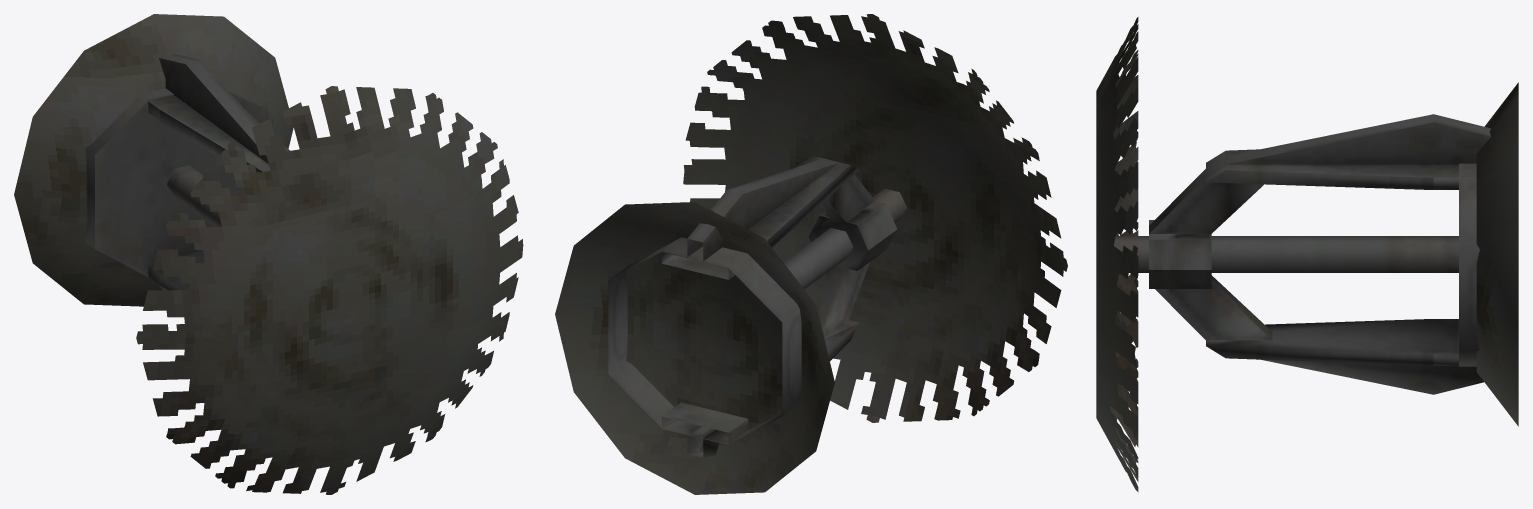
File: nt_2020_sprinkler_01_ceiling_LOD0.obj
3 renders of one model, left to right at view 1: azimuth 30°, elevation 25°; view 2: azimuth 150°, elevation 25°; view 3: azimuth 270°, elevation 25°, orthographic. The views are drawn at different scales.
Parts seen in each view (by area): view 1: mtl_p6_pipes_garage_sprinkler_top, mtl_p6_pipes_garage_details; view 2: mtl_p6_pipes_garage_sprinkler_top, mtl_p6_pipes_garage_details; view 3: mtl_p6_pipes_garage_details, mtl_p6_pipes_garage_sprinkler_top.
Boxes of the visible parts, x1,y1,x2,y2 form: mtl_p6_pipes_garage_sprinkler_top: (14,14,523,494); mtl_p6_pipes_garage_details: (85,54,289,290); mtl_p6_pipes_garage_sprinkler_top: (555,14,1067,494); mtl_p6_pipes_garage_details: (608,156,907,457); mtl_p6_pipes_garage_details: (1114,114,1490,394); mtl_p6_pipes_garage_sprinkler_top: (1096,17,1518,492).
Size of the model in its own units: 11.12 by 11.12 by 9.72.
